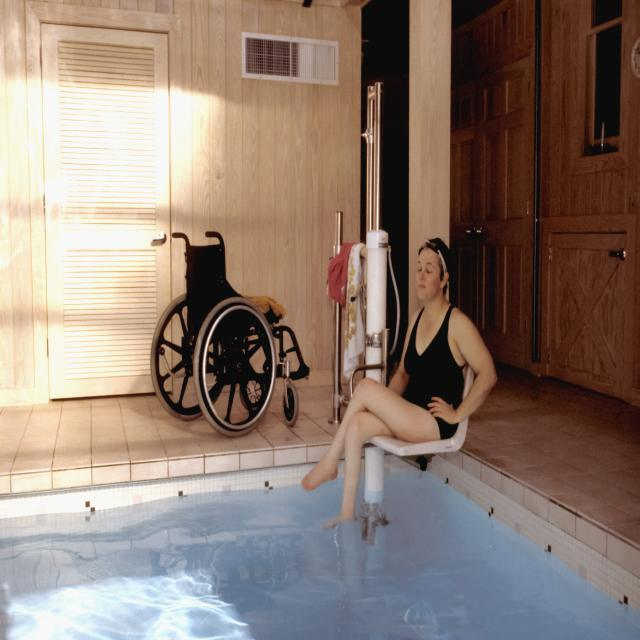wheelchairs: (149, 222, 314, 432)
